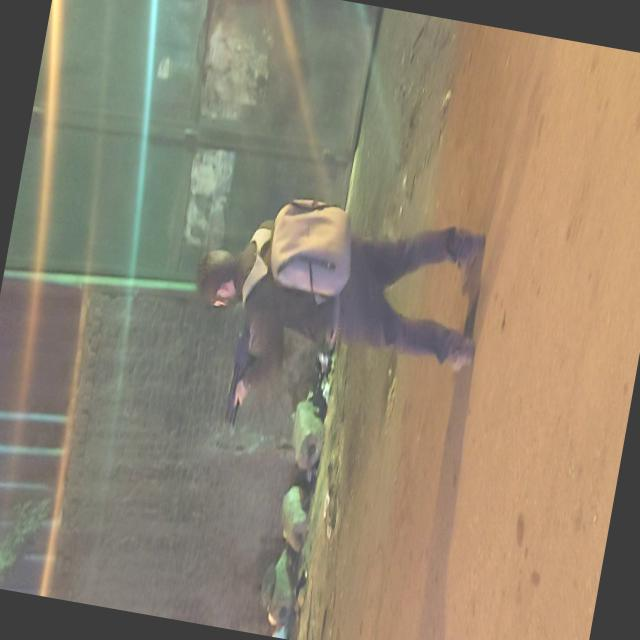long weapon: (208, 310, 271, 464)
